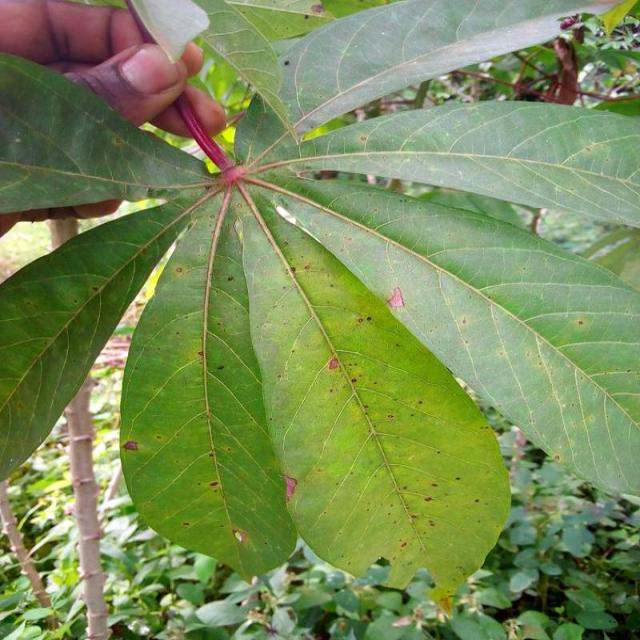cassava leaf: (2, 1, 640, 610), (238, 189, 512, 611), (119, 184, 299, 584), (1, 49, 212, 214)
